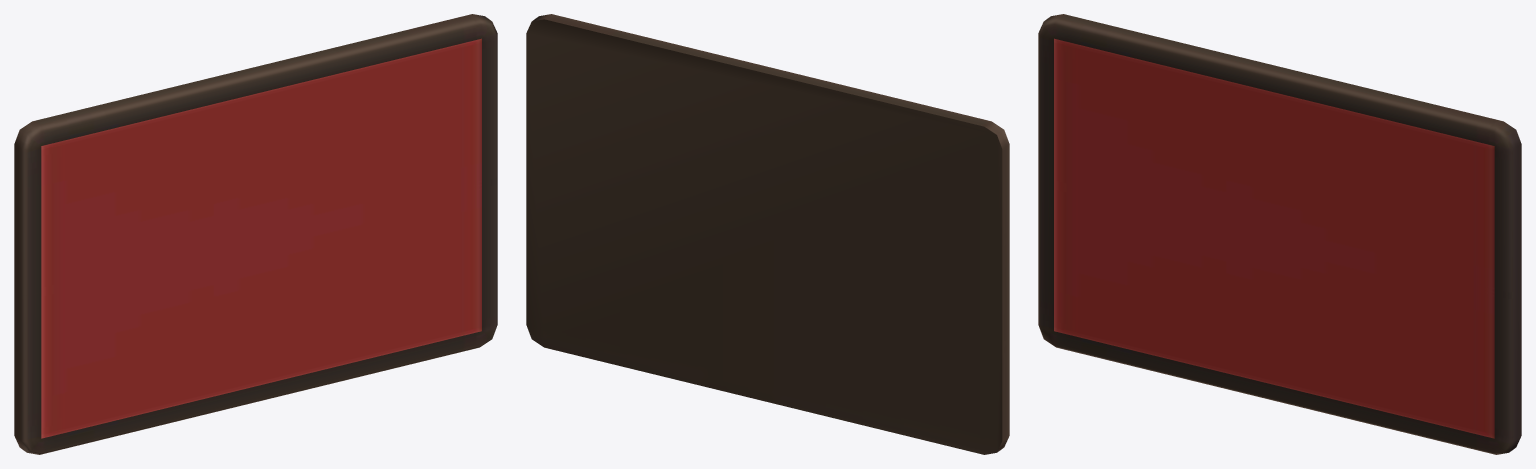
File: workstation_display.glb
3 renders of one model, left to right at view 1: azimuth 30°, elevation 25°; view 2: azimuth 150°, elevation 25°; view 3: azimuth 330°, elevation 25°, orthographic.
Parts seen in each view (by area): view 1: obj_queue; view 2: obj_queue; view 3: obj_queue.
Boxes of the visible parts, x1,y1,x2,y2 form: obj_queue: (14, 14, 497, 454); obj_queue: (526, 14, 1009, 454); obj_queue: (1038, 14, 1521, 454).
Size of what is drawn, in the model's own units: 0.9182 by 0.6054 by 0.0312.
Materials: 1 (1 with a texture image).
